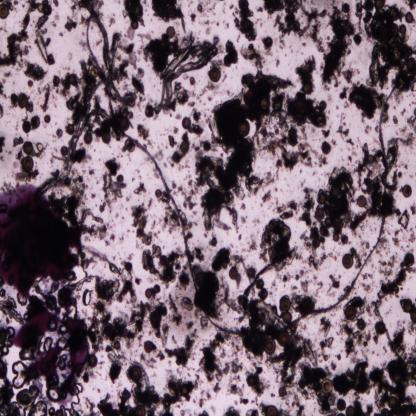Air bubble: (11, 362, 26, 390), (47, 388, 60, 404), (82, 289, 92, 306)
Background material: (193, 73, 292, 234), (47, 58, 109, 200), (269, 91, 330, 173), (362, 1, 416, 93), (307, 164, 358, 249), (371, 318, 416, 414), (264, 0, 327, 54), (318, 4, 353, 90), (268, 333, 316, 395), (360, 144, 398, 222), (244, 246, 300, 296), (193, 264, 238, 323), (72, 0, 110, 66), (97, 374, 155, 414), (263, 219, 303, 271), (158, 372, 202, 415), (297, 361, 332, 415), (378, 250, 416, 299), (115, 68, 144, 132), (129, 300, 170, 344), (0, 14, 33, 67), (104, 318, 130, 381), (99, 157, 129, 211), (142, 247, 184, 284), (238, 296, 280, 331), (334, 358, 373, 395), (198, 332, 228, 379), (348, 81, 384, 120), (164, 328, 198, 368), (143, 32, 176, 72), (87, 300, 110, 355), (153, 189, 181, 233), (341, 319, 372, 357), (233, 0, 259, 44), (130, 204, 156, 247), (117, 260, 141, 304), (172, 174, 200, 211), (34, 15, 54, 65), (80, 220, 116, 246), (114, 43, 141, 77), (247, 361, 270, 398), (238, 44, 267, 73), (243, 171, 280, 193), (91, 276, 122, 302), (210, 247, 245, 269), (295, 54, 319, 86), (17, 59, 49, 81), (168, 292, 186, 329), (299, 186, 315, 226), (151, 0, 177, 23), (388, 126, 416, 147), (278, 394, 306, 415), (304, 251, 336, 269), (122, 1, 145, 25), (294, 292, 316, 317), (228, 338, 244, 372), (276, 197, 299, 220), (226, 372, 247, 397), (175, 79, 195, 104), (36, 82, 52, 113), (222, 38, 239, 67), (243, 336, 266, 357), (25, 0, 52, 17), (14, 167, 41, 184), (317, 337, 336, 361), (61, 71, 82, 92), (378, 256, 398, 278), (279, 268, 306, 283), (302, 276, 323, 295), (350, 295, 366, 319), (139, 352, 163, 368), (352, 210, 370, 231), (352, 397, 373, 415), (196, 0, 215, 19), (338, 124, 354, 146), (340, 68, 359, 85), (136, 121, 151, 142), (178, 269, 192, 291), (180, 294, 195, 314), (192, 244, 207, 264), (405, 106, 416, 133), (355, 0, 363, 36), (397, 208, 410, 229), (73, 146, 88, 164), (352, 247, 364, 269), (366, 300, 381, 317), (262, 34, 273, 57), (377, 235, 390, 254), (320, 315, 331, 337), (170, 151, 187, 165), (189, 124, 205, 138), (365, 272, 375, 294), (199, 389, 211, 407), (224, 404, 242, 416), (65, 16, 77, 32), (345, 149, 357, 165), (392, 228, 402, 247), (407, 304, 416, 325), (34, 142, 45, 158), (329, 273, 340, 289), (144, 102, 154, 119), (50, 76, 60, 93), (248, 234, 258, 251), (261, 191, 274, 204), (134, 182, 147, 195), (409, 226, 416, 247), (12, 135, 24, 147), (186, 10, 197, 23), (56, 127, 66, 141), (88, 398, 96, 415), (339, 86, 348, 101), (322, 140, 331, 155), (0, 135, 7, 154), (0, 81, 7, 99), (166, 134, 175, 148), (9, 94, 18, 108), (244, 406, 259, 414), (213, 383, 222, 396), (364, 123, 373, 135), (188, 73, 197, 85), (353, 34, 362, 46), (239, 396, 249, 406), (209, 235, 218, 246), (392, 113, 399, 127), (236, 231, 244, 242), (3, 70, 13, 78), (330, 360, 338, 370), (334, 352, 342, 360), (128, 251, 135, 260), (27, 79, 34, 88), (361, 242, 370, 249), (0, 104, 4, 119), (256, 6, 264, 13), (110, 14, 115, 25), (411, 204, 416, 215), (53, 0, 59, 9), (12, 0, 19, 7), (240, 202, 246, 210), (275, 58, 280, 66)
Cellulose filter fibre: (154, 41, 218, 112)
Diatom: (263, 338, 277, 356), (236, 119, 250, 136), (208, 66, 221, 83), (257, 280, 268, 300), (341, 253, 354, 269), (129, 365, 142, 380), (321, 379, 334, 394), (374, 320, 386, 335), (0, 2, 10, 20), (22, 156, 33, 172), (65, 122, 76, 138), (166, 4, 178, 18), (330, 184, 342, 198), (280, 297, 291, 312), (345, 306, 356, 321), (314, 206, 324, 222), (58, 144, 71, 156), (265, 404, 278, 416), (279, 332, 290, 346), (17, 95, 28, 109), (260, 96, 271, 110), (388, 395, 398, 410), (87, 354, 98, 367), (282, 312, 293, 325), (336, 398, 346, 412), (333, 219, 343, 233), (402, 184, 412, 198), (134, 404, 146, 415), (84, 132, 95, 144), (356, 195, 366, 208), (390, 8, 400, 21), (181, 116, 191, 129), (229, 266, 238, 280), (22, 120, 31, 134), (30, 116, 40, 128), (403, 300, 413, 312), (23, 142, 33, 154), (180, 141, 190, 153), (144, 340, 152, 354), (166, 27, 176, 38), (303, 83, 312, 95), (375, 0, 385, 10), (318, 99, 327, 110), (346, 404, 354, 416), (398, 25, 408, 34), (406, 12, 413, 24), (327, 396, 336, 405), (131, 20, 139, 30), (43, 114, 51, 124), (181, 18, 186, 34), (144, 288, 152, 298), (332, 234, 339, 242)
Microfibre: (106, 32, 416, 336)
Pen: (0, 184, 89, 406)
